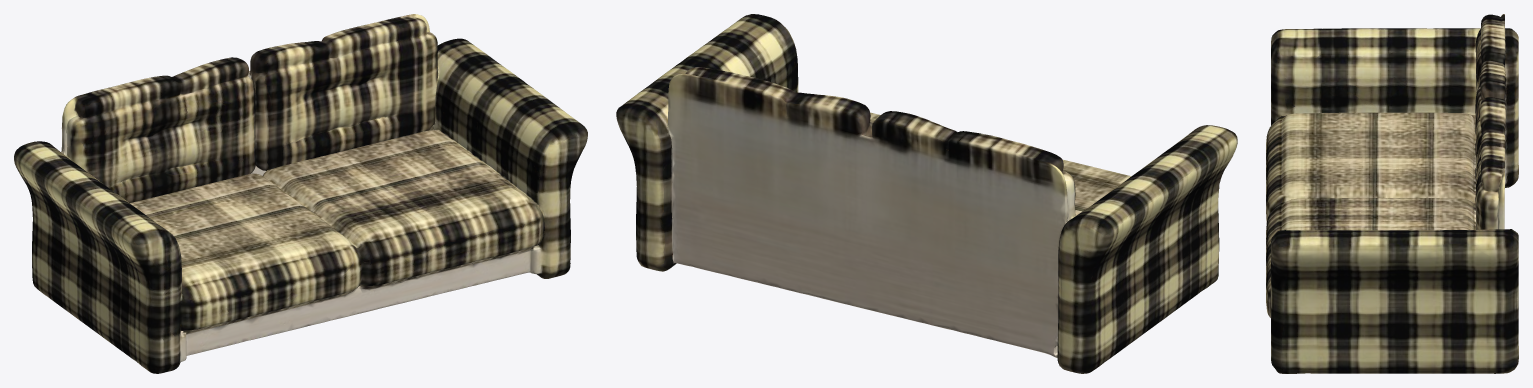
File: plaid_1.glb
3 views of the same model, side by side, from view 1: azimuth 30°, elevation 25°; view 2: azimuth 150°, elevation 25°; view 3: azimuth 270°, elevation 25° (orthographic). The views are drawn at different scales.
Visible parts, largest first — view 1: geometry_0; view 2: geometry_0; view 3: geometry_0.
Part boxes in pixels (left/top/right/bottom): geometry_0: left=14, top=14, right=587, bottom=373; geometry_0: left=616, top=14, right=1237, bottom=373; geometry_0: left=1266, top=14, right=1518, bottom=373.
Bounding box in the file's own units: 1 × 0.3975 × 0.4895.
1 material, 1 textured.
